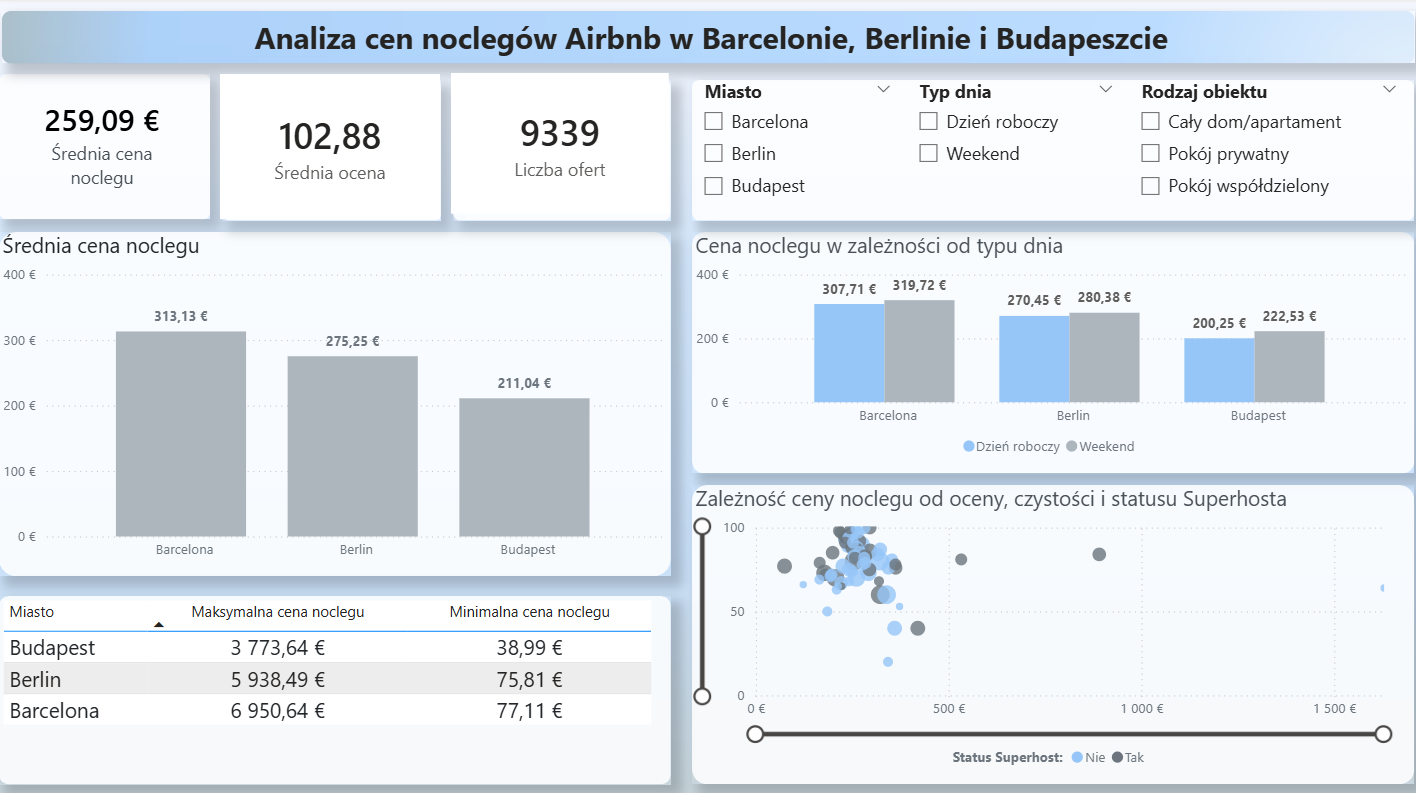

The page's visual inventory and layout, read from the dashboard file:
{"tool":"powerbi","page":{"name":"Analiza 1","canvas":[1280,720],"ordinal":0},"visuals":[{"type":"group","id":"g1","title":"Background","box":[7.1,10.6,1267.4,692.2],"z":0},{"type":"shape","box":[7.1,67,189.2,130.5],"z":0,"group":"g1"},{"type":"image","box":[9.5,10.6,1264.7,47],"z":1000,"group":"g1"},{"type":"cardVisual","fields":{"Data":["_Fact_obiekt.Średnia cena noclegu"]},"box":[5,66.7,188.8,125.9],"z":1000},{"type":"shape","box":[627.6,208.2,646.9,216.5],"z":2000,"group":"g1"},{"type":"clusteredColumnChart","title":"Średnia cena noclegu","fields":{"Category":["Dim_miasto.Miasto"],"Y":["_Fact_obiekt.Średnia cena noclegu"]},"box":[5.4,207.8,603.6,303.6],"z":2000},{"type":"shape","box":[7.1,208.2,601.6,308.4],"z":3000,"group":"g1"},{"type":"clusteredColumnChart","title":"Cena noclegu w zależności od typu dnia","fields":{"Category":["Dim_miasto.Miasto"],"Y":["_Fact_obiekt.Średnia cena noclegu"],"Series":["Dim_typ_dnia.Typ_dnia"]},"box":[626,207.8,646.6,211.3],"z":3000},{"type":"shape","box":[627.6,434.7,646.9,268.1],"z":4000,"group":"g1"},{"type":"scatterChart","title":"Zależność ceny noclegu od oceny, czystości i statusu Superhosta","fields":{"X":["_Fact_obiekt.Średnia cena noclegu"],"Y":["Dim_ocena.Ocena_satysfakcji_gości"],"Size":["CountNonNull(Dim_ocena.Ocena_czystości)"],"Series":["Dim_obiekt.Właściciel_Superhost"]},"box":[626,434.3,646.6,263.3],"z":4000},{"type":"shape","box":[627.6,72.3,646.9,125.9],"z":5000,"group":"g1"},{"type":"slicer","fields":{"Values":["Dim_miasto.Miasto"]},"box":[625.5,66.7,192.6,125.9],"z":5000},{"type":"textbox","box":[54.1,10.6,1182.4,54.1],"z":6000},{"type":"shape","box":[7.1,534.2,601.6,168.7],"z":6000,"group":"g1"},{"type":"shape","box":[206.6,72.3,196.3,125.9],"z":7000,"group":"g1"},{"type":"slicer","fields":{"Values":["Dim_typ_dnia.Typ_dnia"]},"box":[818.1,66.7,198.9,125.9],"z":7000},{"type":"shape","box":[413.6,72.3,195.1,125.9],"z":8000,"group":"g1"},{"type":"slicer","fields":{"Values":["Dim_obiekt.Rodzaj_obiektu"]},"box":[1017,66.7,254.2,125.9],"z":8000},{"type":"cardVisual","fields":{"Data":["_Fact_obiekt.Średnia ocena"]},"box":[205,66.8,197.2,130.3],"z":9000},{"type":"cardVisual","fields":{"Data":["_Fact_obiekt.Liczba ofert"]},"box":[411.6,66.7,195.1,125.9],"z":10000},{"type":"tableEx","fields":{"Values":["Dim_miasto.Miasto","_Fact_obiekt.Maksymalna cena noclegu","_Fact_obiekt.Minimalna cena noclegu"]},"box":[5.4,533.7,600.9,169.3],"z":11000}]}

Visuals, with their boxes in screenshot pixels (x1, y1, x2, y2), scaled from the page's 1280x720 canvas onto the 1416x793 screenshot:
"Background" group: region(8, 12, 1410, 774)
shape: region(8, 74, 217, 218)
image: region(11, 12, 1410, 63)
cardVisual - _Fact_obiekt.Średnia cena noclegu: region(6, 73, 214, 212)
shape: region(694, 229, 1410, 468)
"Średnia cena noclegu" clusteredColumnChart: region(6, 229, 674, 563)
shape: region(8, 229, 673, 569)
"Cena noclegu w zależności od typu dnia" clusteredColumnChart: region(693, 229, 1408, 462)
shape: region(694, 479, 1410, 774)
"Zależność ceny noclegu od oceny, czystości i statusu Superhosta" scatterChart: region(693, 478, 1408, 768)
shape: region(694, 80, 1410, 218)
slicer - Dim_miasto.Miasto: region(692, 73, 905, 212)
textbox: region(60, 12, 1368, 71)
shape: region(8, 588, 673, 774)
shape: region(229, 80, 446, 218)
slicer - Dim_typ_dnia.Typ_dnia: region(905, 73, 1125, 212)
shape: region(458, 80, 673, 218)
slicer - Dim_obiekt.Rodzaj_obiektu: region(1125, 73, 1406, 212)
cardVisual - _Fact_obiekt.Średnia ocena: region(227, 74, 445, 217)
cardVisual - _Fact_obiekt.Liczba ofert: region(455, 73, 671, 212)
tableEx - Dim_miasto.Miasto x _Fact_obiekt.Maksymalna cena noclegu: region(6, 588, 671, 774)
